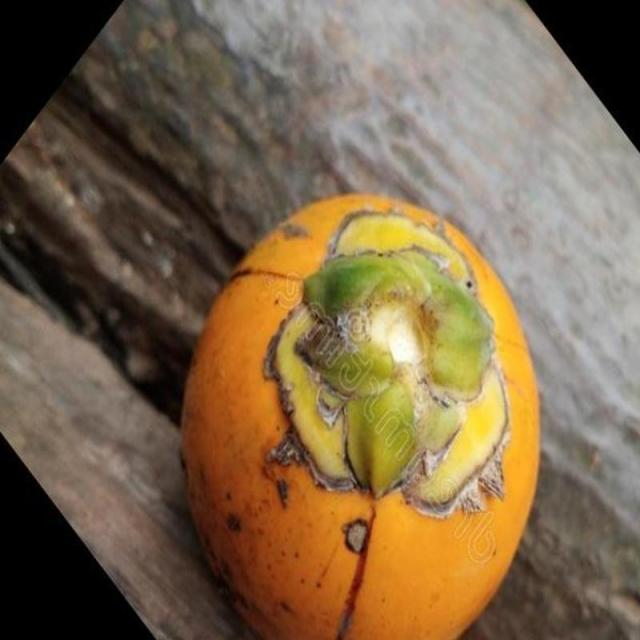good: (179, 193, 542, 639)
